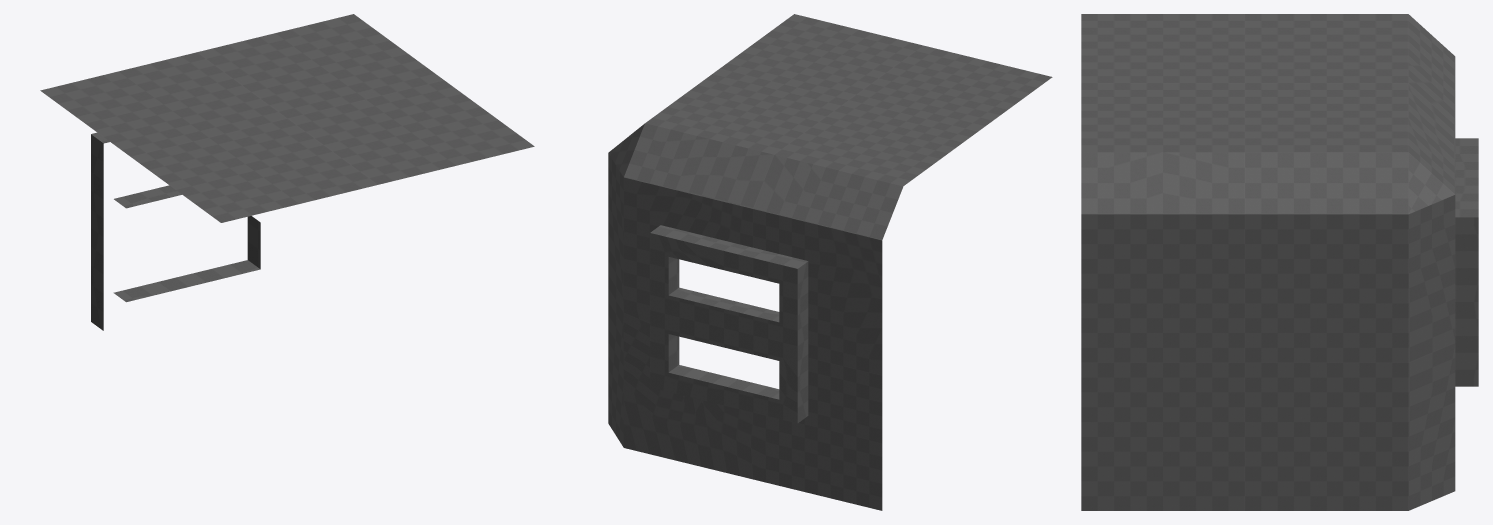
3 views of the same model, side by side, from view 1: azimuth 30°, elevation 25°; view 2: azimuth 150°, elevation 25°; view 3: azimuth 270°, elevation 25° (orthographic). The views are drawn at different scales.
Parts seen in each view (by area): view 1: 1; view 2: 1; view 3: 1.
Boxes of the visible parts, bbox=[...] form: 1: bbox=[40, 14, 534, 330]; 1: bbox=[608, 14, 1052, 510]; 1: bbox=[1081, 14, 1478, 510].
Bounding box in the file's own units: 2 × 2 × 2.12.
2 materials, 2 textured.
